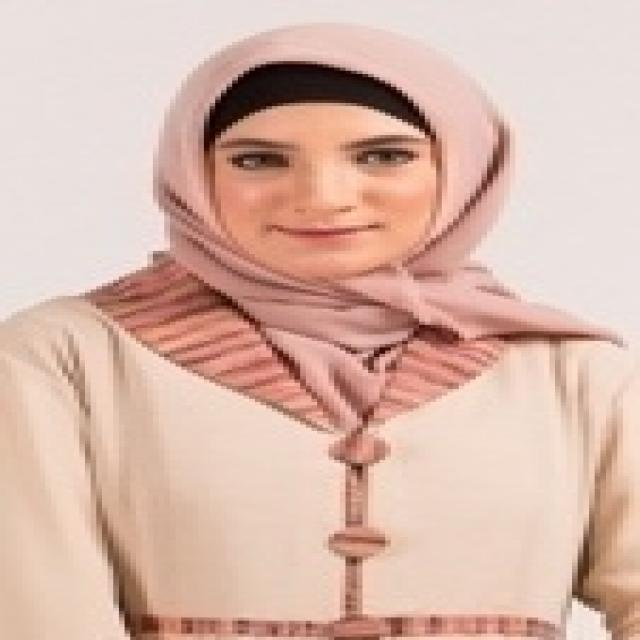head: (159, 30, 523, 284)
